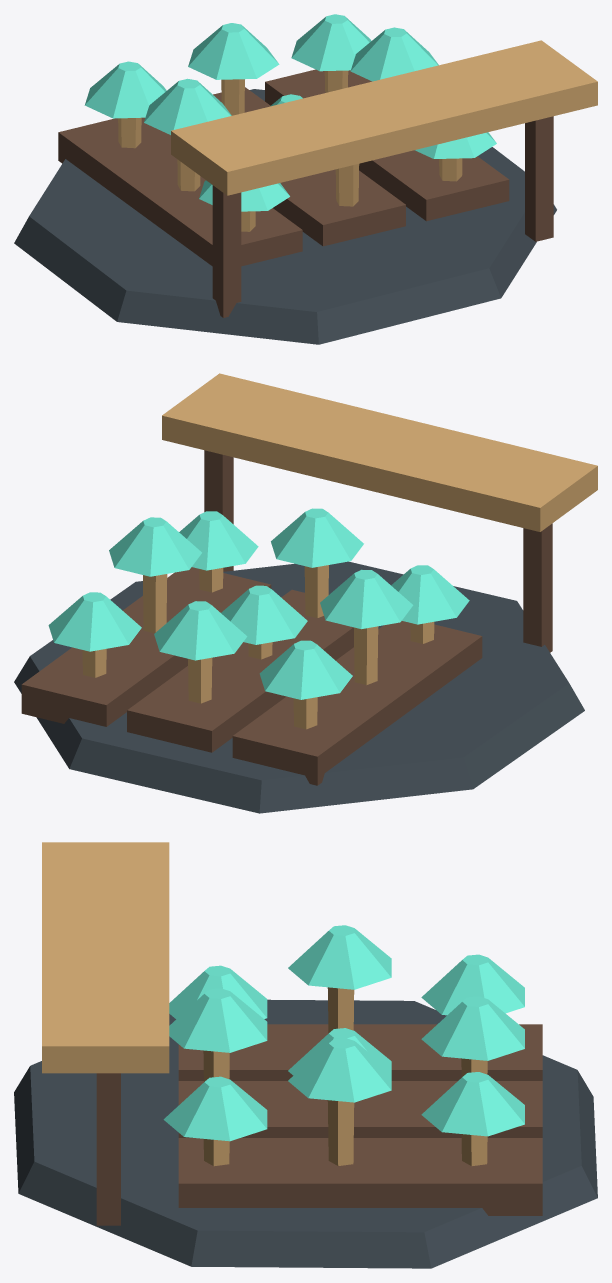
The model's file is Field_Food.fbx.
The picture shows the model from 3 angles, top to bottom: view 1: azimuth 30°, elevation 25°; view 2: azimuth 150°, elevation 25°; view 3: azimuth 270°, elevation 25°; orthographic projection. The views are drawn at different scales.
Parts seen in each view (by area): view 1: Field_Food; view 2: Field_Food; view 3: Field_Food.
Boxes of the visible parts, x1=… form: Field_Food: x1=14, y1=14, x2=597, y2=344; Field_Food: x1=14, y1=373, x2=597, y2=813; Field_Food: x1=14, y1=842, x2=597, y2=1268.
Size of the model in its own units: 2 by 0.78 by 2.
